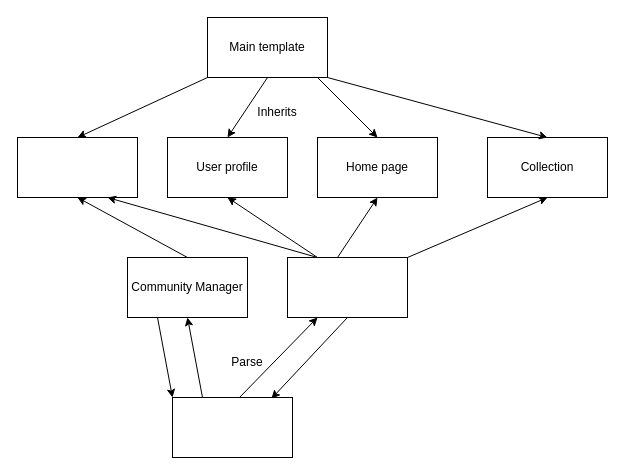
Image size: 625x475. Some labels were removed from this diagram. Each missing label, with the centre of its shape:
Community: point 77,167
Database: point 232,427
User Manager: point 347,287
